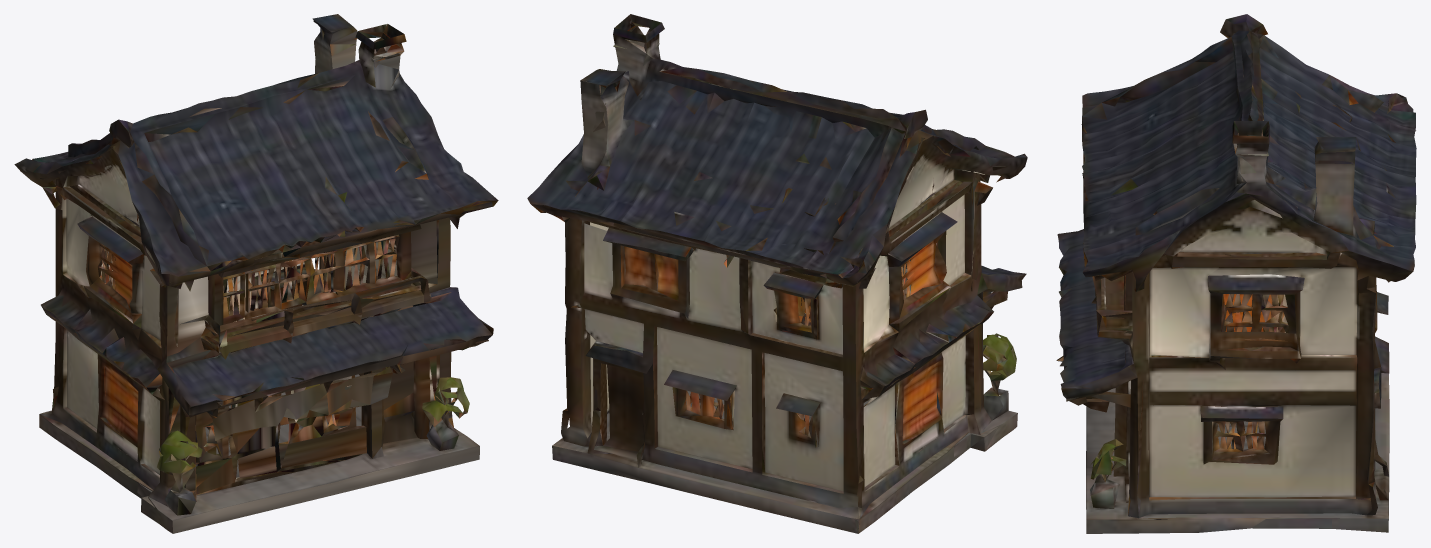
File: shop_2.glb
3 views of the same model, side by side, from view 1: azimuth 30°, elevation 25°; view 2: azimuth 150°, elevation 25°; view 3: azimuth 270°, elevation 25° (orthographic). The views are drawn at different scales.
Parts seen in each view (by area): view 1: compact__shop_2__neural_lod; view 2: compact__shop_2__neural_lod; view 3: compact__shop_2__neural_lod.
Boxes of the visible parts, box(x1,y1,x2,y2) form: compact__shop_2__neural_lod: box(14, 14, 498, 533); compact__shop_2__neural_lod: box(527, 14, 1027, 533); compact__shop_2__neural_lod: box(1056, 14, 1416, 533).
Bounding box in the file's own units: 0.9302 × 0.9985 × 0.8218.
Materials: 1 (1 with a texture image).
